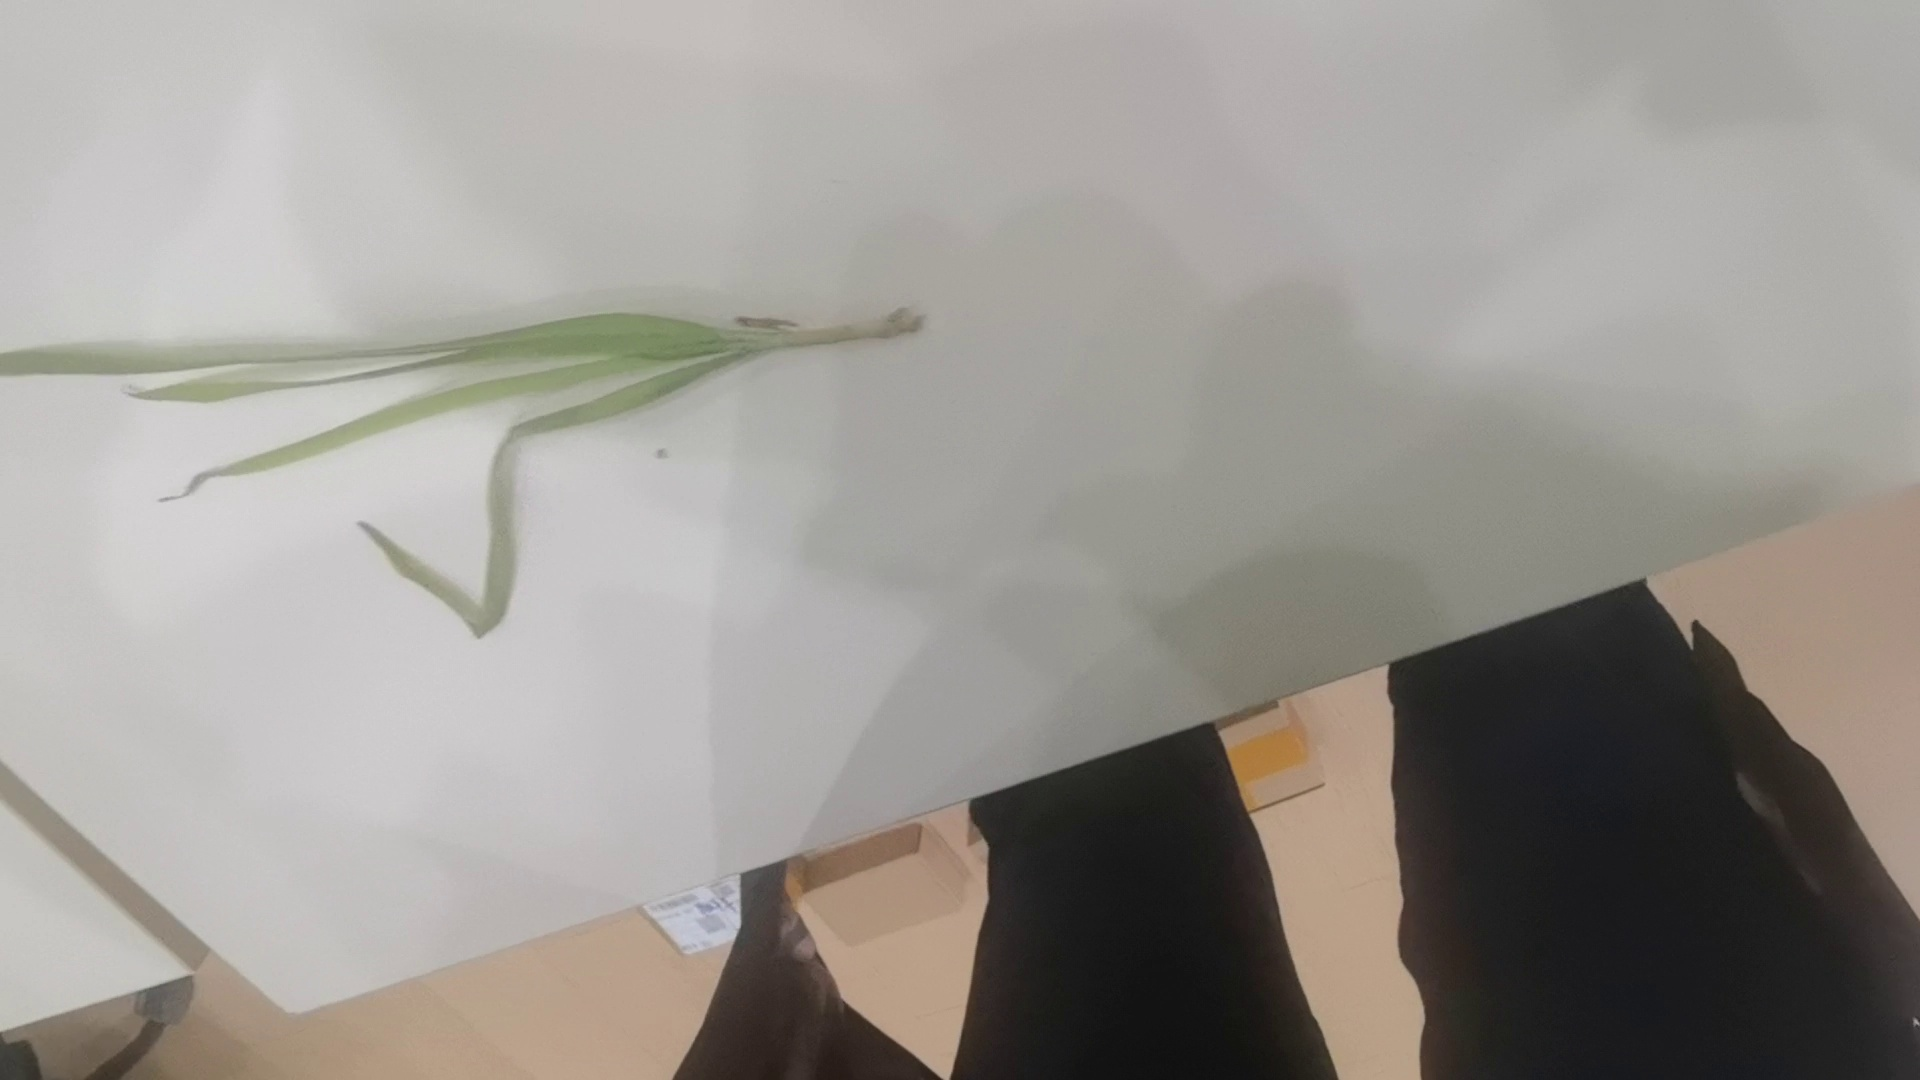chives: (17, 312, 973, 644)
